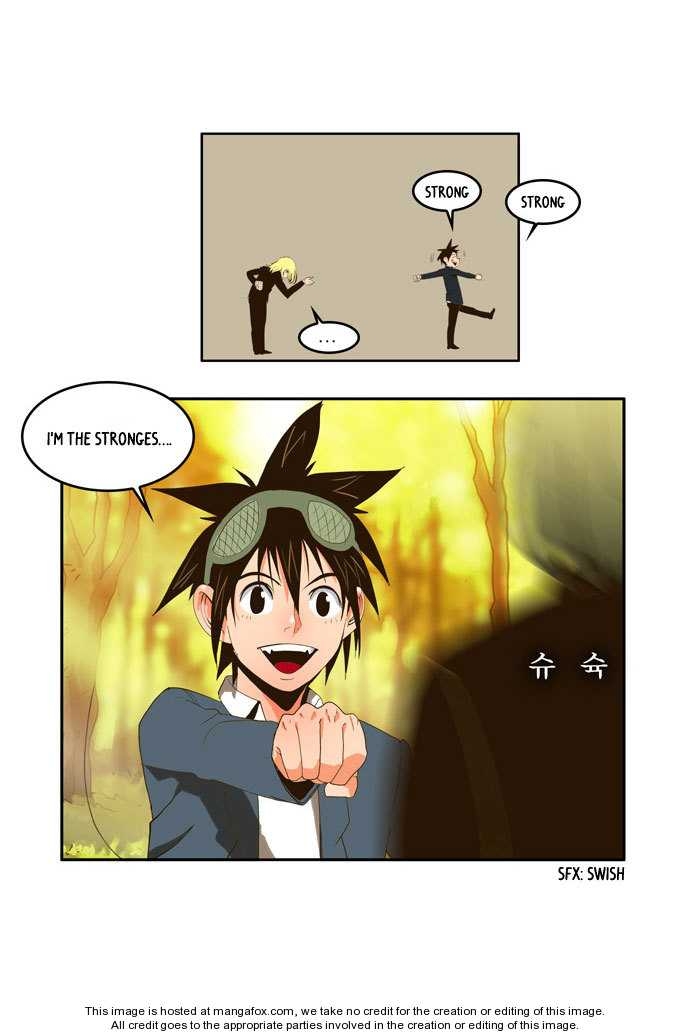bubble: (22, 382, 195, 515), (506, 180, 580, 239), (412, 171, 481, 227), (298, 308, 361, 353)
